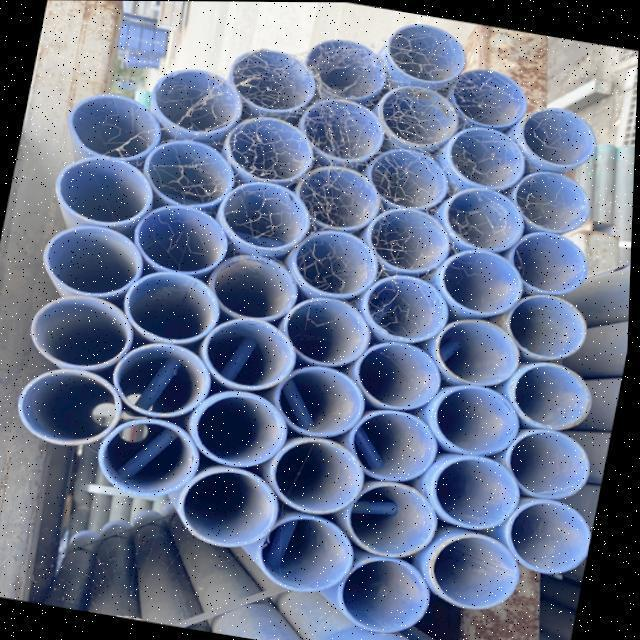pipe: (412, 518, 538, 620), (9, 354, 134, 456), (170, 454, 291, 557), (22, 286, 147, 380), (92, 411, 212, 506), (33, 214, 155, 306), (114, 259, 233, 353), (258, 428, 374, 523), (104, 334, 222, 427), (192, 305, 308, 399), (182, 382, 298, 475), (338, 470, 452, 564), (493, 486, 602, 584), (122, 193, 240, 282), (252, 510, 367, 600), (45, 146, 162, 234), (137, 58, 254, 146), (328, 548, 442, 638), (420, 444, 532, 535), (422, 374, 535, 464), (267, 355, 377, 447), (134, 130, 246, 218), (210, 172, 322, 258), (344, 400, 451, 490), (500, 350, 606, 440), (497, 420, 603, 508), (197, 245, 308, 329), (276, 287, 382, 374), (287, 86, 395, 170), (425, 242, 534, 324), (420, 310, 530, 391), (216, 107, 323, 190), (58, 86, 169, 166), (220, 40, 328, 122), (285, 218, 387, 304), (354, 266, 458, 349), (348, 334, 453, 416), (359, 198, 458, 284), (289, 157, 390, 240), (370, 14, 475, 92), (499, 284, 598, 366), (370, 76, 470, 157), (505, 96, 606, 176), (435, 178, 536, 258), (434, 179, 532, 259), (434, 118, 534, 195), (504, 222, 600, 302), (503, 162, 604, 238), (296, 32, 396, 108), (361, 140, 458, 217), (440, 58, 534, 135)
